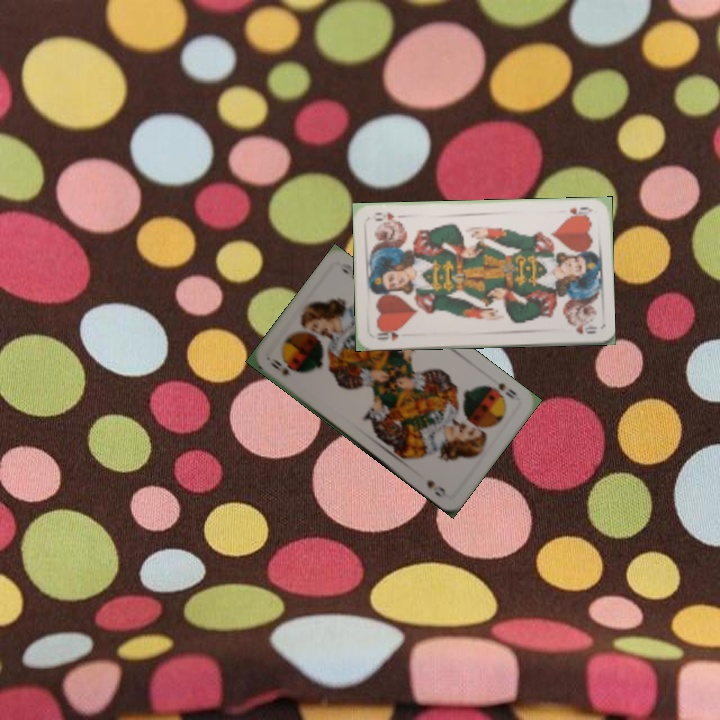HO: (562, 203, 595, 220), (373, 326, 401, 344)
SO: (484, 379, 519, 402), (266, 354, 292, 378)
